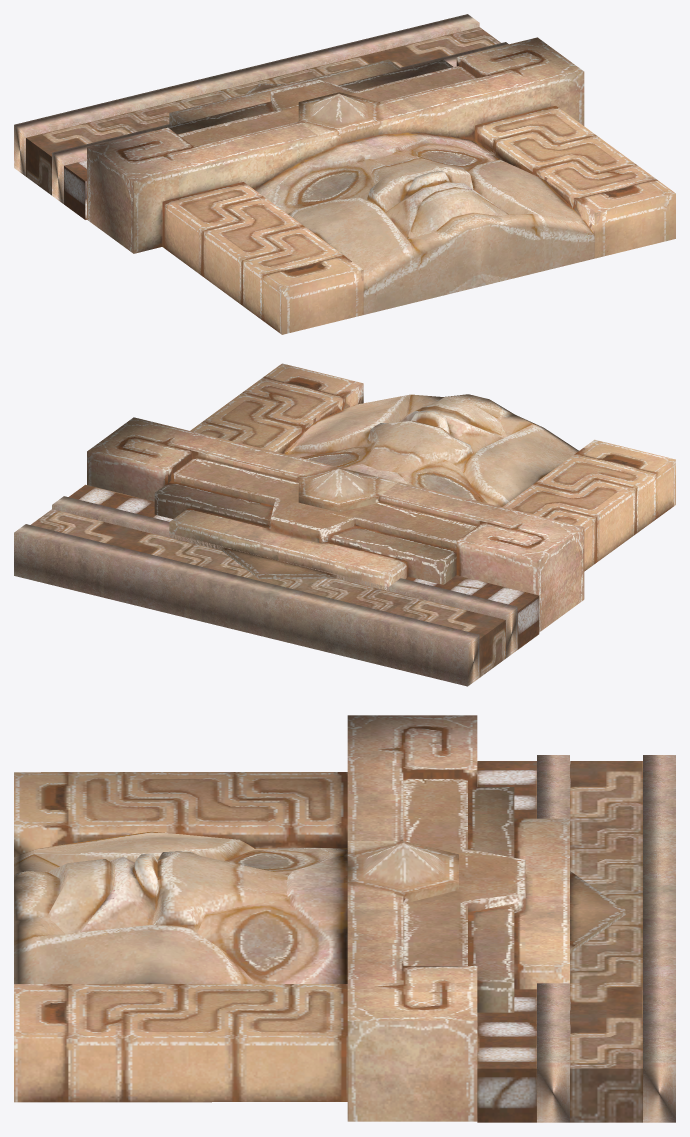
Rendered from PyramidDoor.obj.
The picture shows the model from 3 angles, top to bottom: view 1: azimuth 30°, elevation 25°; view 2: azimuth 150°, elevation 25°; view 3: azimuth 270°, elevation 25°; orthographic projection. The views are drawn at different scales.
Parts seen in each view (by area): view 1: ReliefStonePattern09_02__ReliefStonePattern09, pCube4808__ReliefStonePattern01, EdgeStone01_low23__EdgeStoneBlock02, EdgeStone01_low23__EdgeStoneBlock03; view 2: ReliefStonePattern09_02__ReliefStonePattern09, EdgeStone01_low23__EdgeStoneBlock02, pCube4808__ReliefStonePattern01, EdgeStone01_low23__EdgeStoneBlock03; view 3: ReliefStonePattern09_02__ReliefStonePattern09, pCube4808__ReliefStonePattern01, EdgeStone01_low23__EdgeStoneBlock02, EdgeStone01_low23__EdgeStoneBlock03.
Boxes of the visible parts, x1,y1,x2,y2 form: ReliefStonePattern09_02__ReliefStonePattern09: [87, 37, 675, 334]; pCube4808__ReliefStonePattern01: [26, 27, 500, 219]; EdgeStone01_low23__EdgeStoneBlock02: [14, 14, 508, 199]; EdgeStone01_low23__EdgeStoneBlock03: [14, 125, 63, 203]; ReliefStonePattern09_02__ReliefStonePattern09: [87, 363, 675, 632]; EdgeStone01_low23__EdgeStoneBlock02: [14, 496, 517, 686]; pCube4808__ReliefStonePattern01: [31, 484, 539, 677]; EdgeStone01_low23__EdgeStoneBlock03: [467, 607, 517, 686]; ReliefStonePattern09_02__ReliefStonePattern09: [14, 715, 625, 1121]; pCube4808__ReliefStonePattern01: [477, 761, 642, 1122]; EdgeStone01_low23__EdgeStoneBlock02: [537, 755, 675, 1062]; EdgeStone01_low23__EdgeStoneBlock03: [537, 1062, 675, 1122].
Size of the model in its own units: 1100 by 210 by 1000.
Materials: 5 (4 with a texture image).
